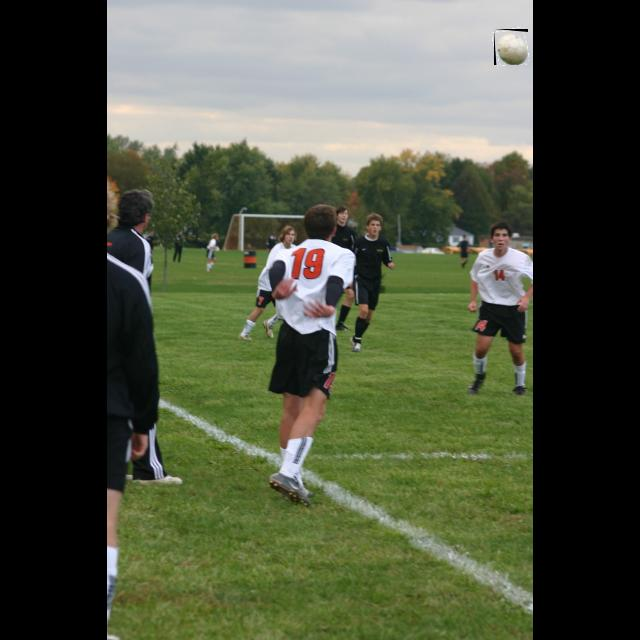Football: (494, 29, 528, 65)
